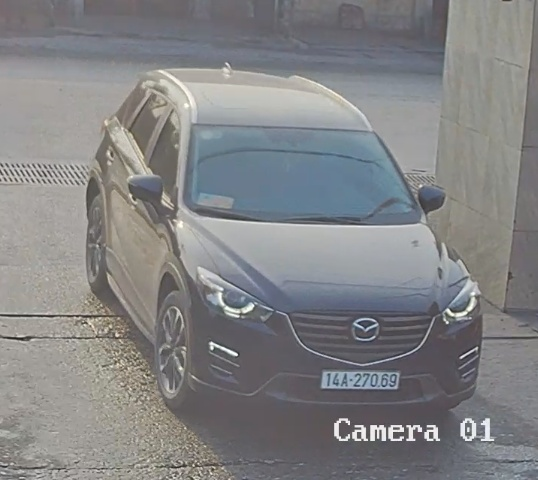vehicle plate: (316, 364, 403, 389)
